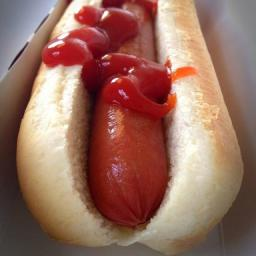hotdog: (103, 0, 169, 225), (86, 87, 166, 224)
